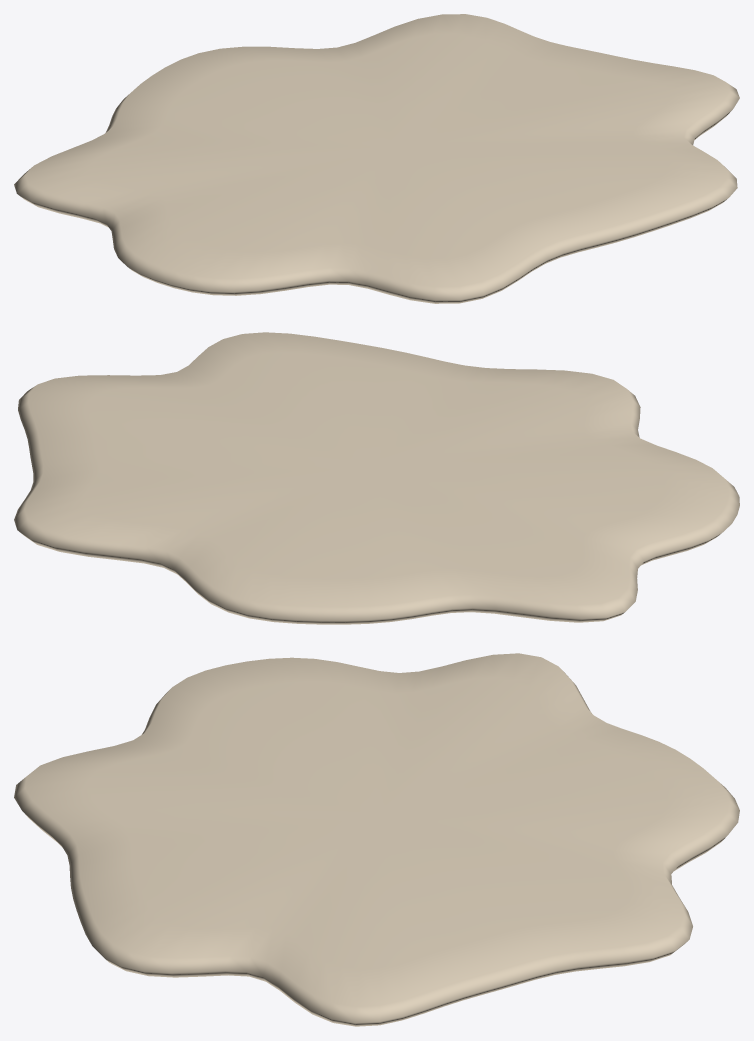
The model's file is sheepskin.glb.
3 views of the same model, one above another, from view 1: azimuth 30°, elevation 25°; view 2: azimuth 150°, elevation 25°; view 3: azimuth 270°, elevation 25° (orthographic). The views are drawn at different scales.
Visible parts, largest first — view 1: continuous-soft-wool-casing; view 2: continuous-soft-wool-casing; view 3: continuous-soft-wool-casing.
Part boxes in pixels (box(x1,y1,x2,y2)): continuous-soft-wool-casing: box(14, 14, 739, 303); continuous-soft-wool-casing: box(14, 332, 739, 624); continuous-soft-wool-casing: box(14, 653, 739, 1026).
Size of the model in its own units: 1.66 by 0.053 by 1.39.
